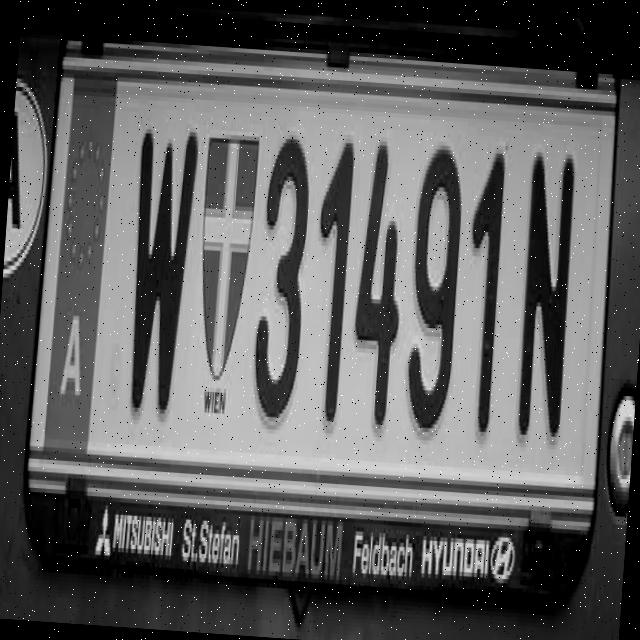Autriche: (44, 69, 118, 443)
EU: (27, 62, 621, 544)
